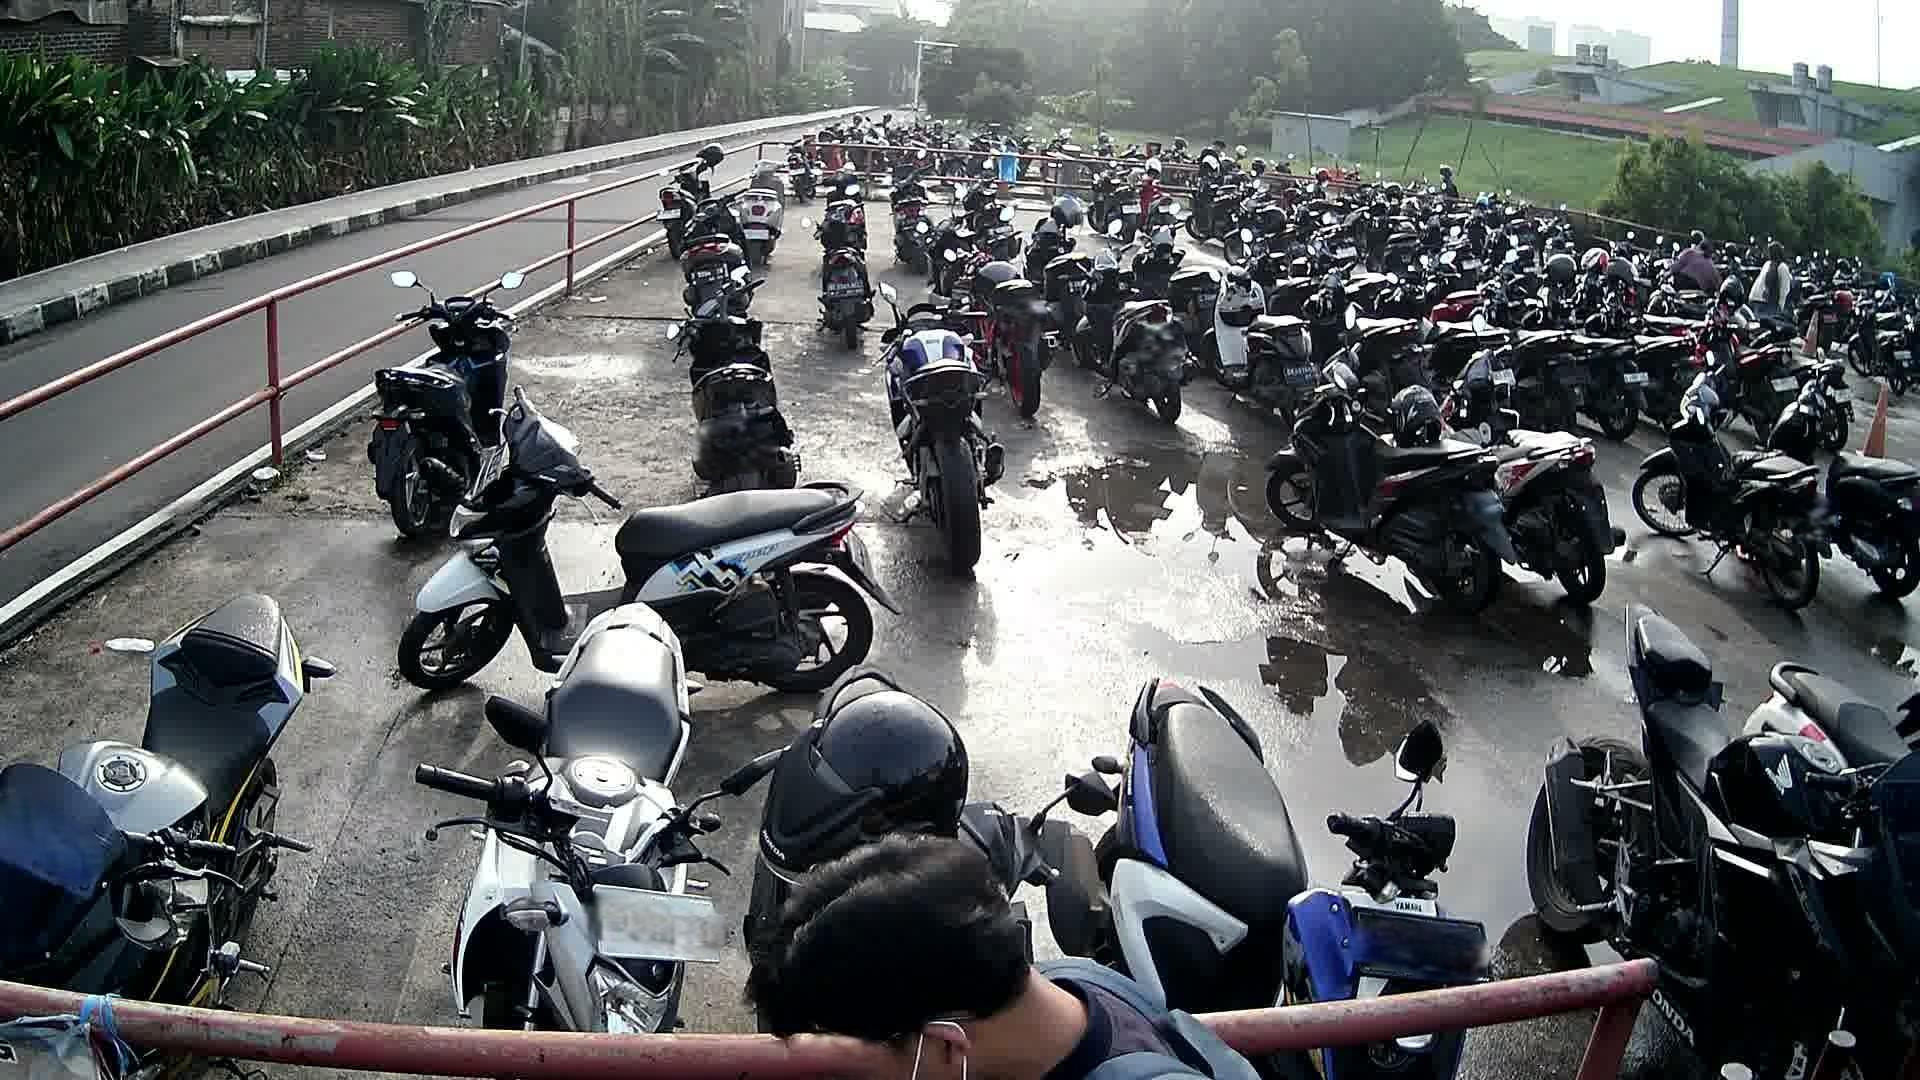motorcycle: (396, 389, 905, 696), (1050, 682, 1493, 1010), (410, 601, 744, 1034), (1527, 607, 1920, 957), (0, 588, 335, 986), (1267, 359, 1515, 616), (1452, 356, 1635, 609), (1639, 377, 1833, 611), (872, 277, 1011, 567), (367, 270, 509, 538), (1791, 380, 1920, 599), (671, 284, 803, 491), (1739, 655, 1894, 769)
